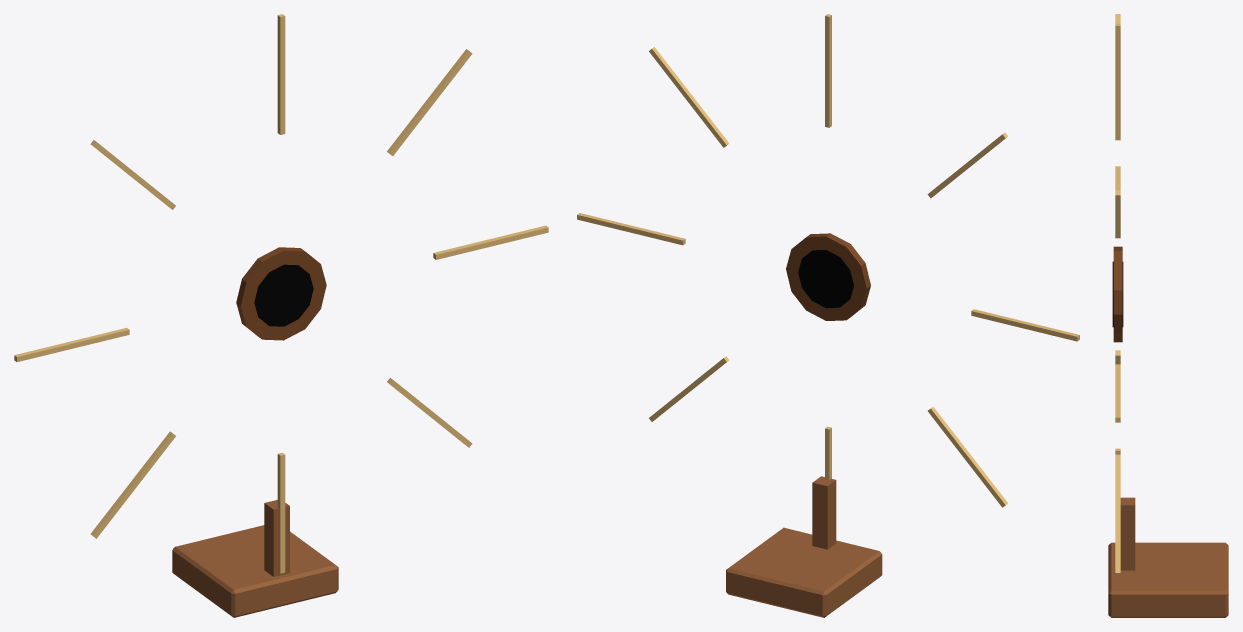
Rendered from Helm.fbx.
The picture shows the model from 3 angles, left to right: view 1: azimuth 30°, elevation 25°; view 2: azimuth 150°, elevation 25°; view 3: azimuth 270°, elevation 25°; orthographic projection. The views are drawn at different scales.
Visible parts, largest first — view 1: Helm; view 2: Helm; view 3: Helm.
Part boxes in pixels (left/top/right/bottom): Helm: left=14, top=14, right=548, bottom=617; Helm: left=577, top=14, right=1079, bottom=617; Helm: left=1108, top=14, right=1228, bottom=617.
Size of the model in its own units: 19.82 by 20.92 by 4.
1 material, 1 textured.
